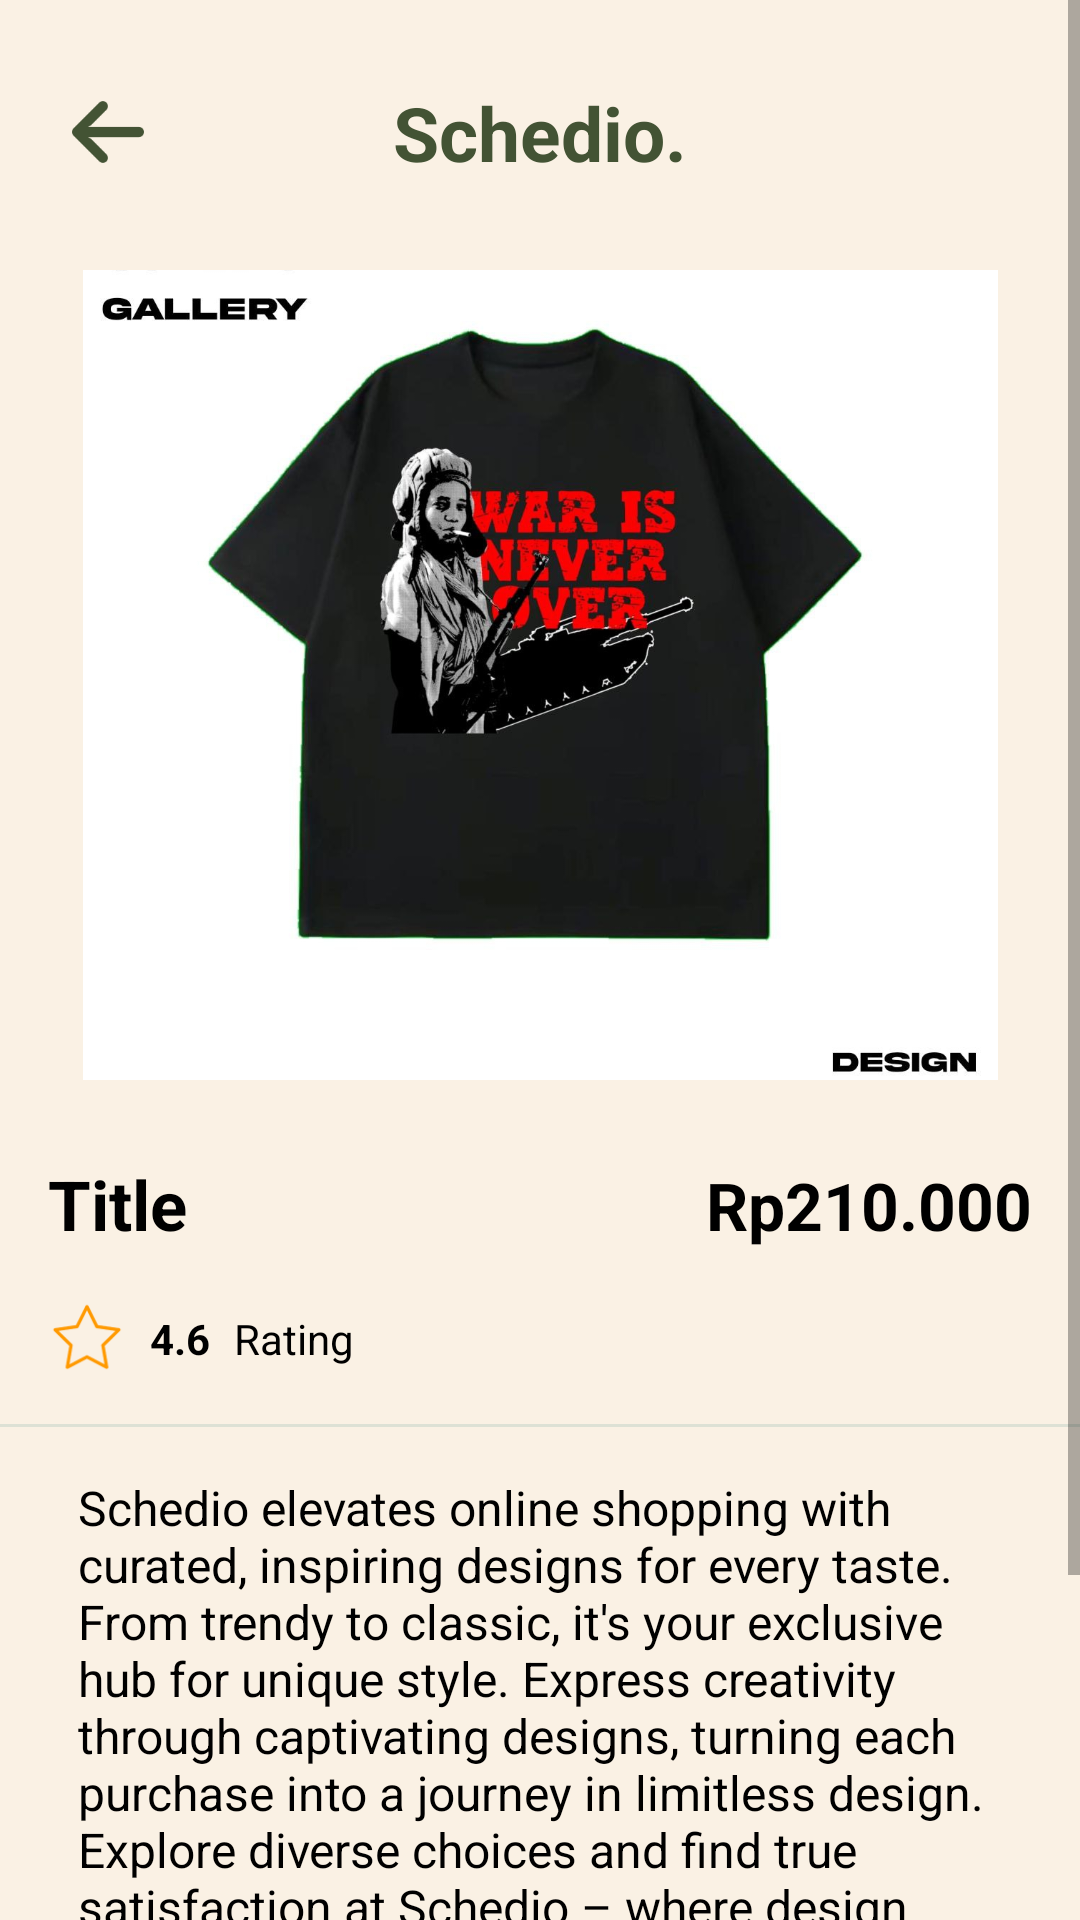

Screen size 1080px x 1920px. Icon name, then its box in pixels as (x1,y1,x2,y2):
arrow: (72,101,144,163)
star: (53,1305,121,1369)
